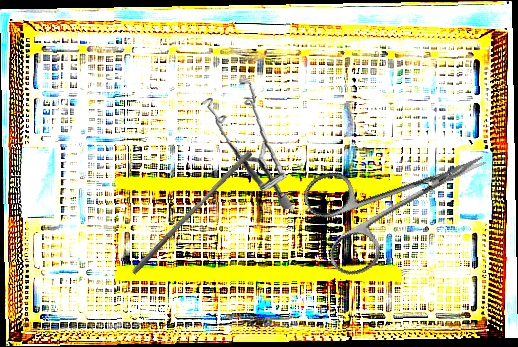Iris Scissors: (298, 113, 507, 284)
Pusher: (130, 144, 254, 281)
Speculum: (192, 74, 305, 210)
